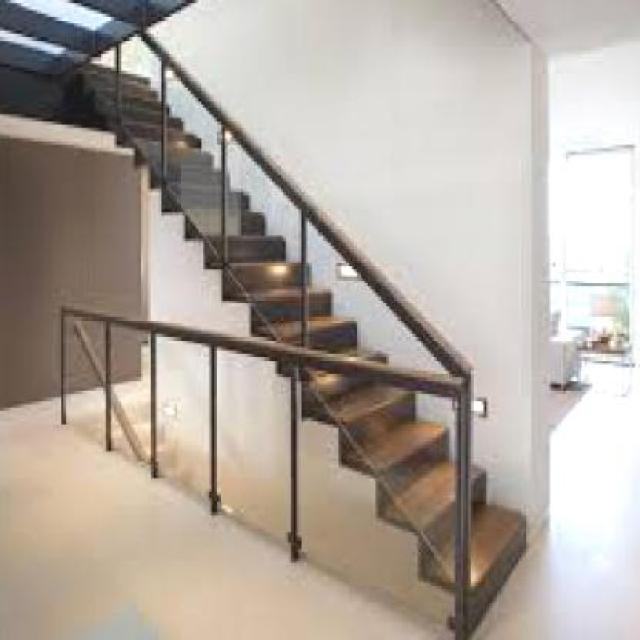stair: (68, 43, 557, 632)
